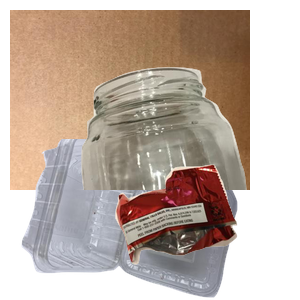cardboard: (10, 10, 250, 190)
glass: (74, 65, 300, 245)
plastic: (19, 139, 249, 300)
trash: (113, 162, 300, 300)
